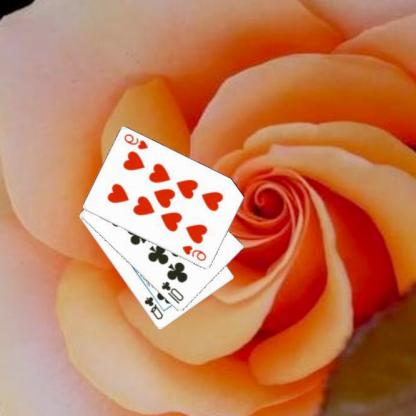10C: (160, 278, 187, 306)
9H: (123, 131, 151, 151), (181, 243, 210, 262)
QC: (143, 294, 166, 322)
